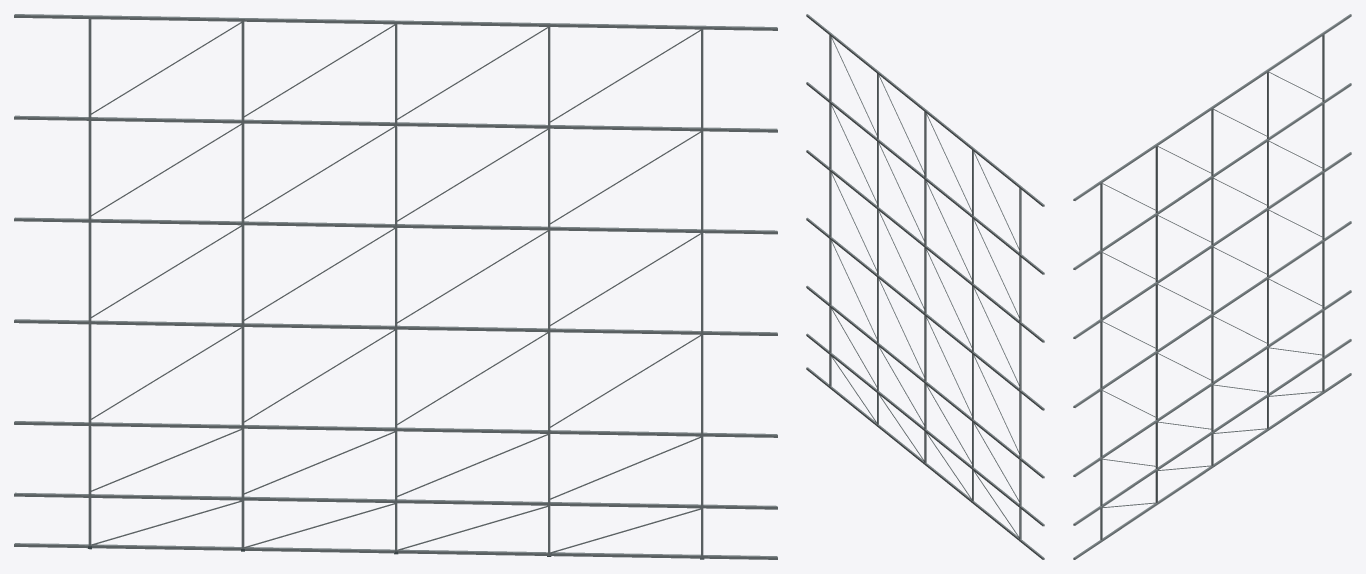
The model's file is G7_Completion_Prior_G7_MiddleExterior_E06_r001.glb.
3 views of the same model, side by side, from view 1: azimuth 30°, elevation 25°; view 2: azimuth 150°, elevation 25°; view 3: azimuth 270°, elevation 25° (orthographic). The views are drawn at different scales.
Parts seen in each view (by area): view 1: G7_MiddleExterior_E06_frame; view 2: G7_MiddleExterior_E06_frame; view 3: G7_MiddleExterior_E06_frame.
Boxes of the visible parts, x1=… form: G7_MiddleExterior_E06_frame: x1=14, y1=14, x2=777, y2=559; G7_MiddleExterior_E06_frame: x1=806, y1=14, x2=1044, y2=559; G7_MiddleExterior_E06_frame: x1=1073, y1=14, x2=1351, y2=559.
Bounding box in the file's own units: 48.98 × 44.5 × 31.1.
Materials: 2 (2 with a texture image).
